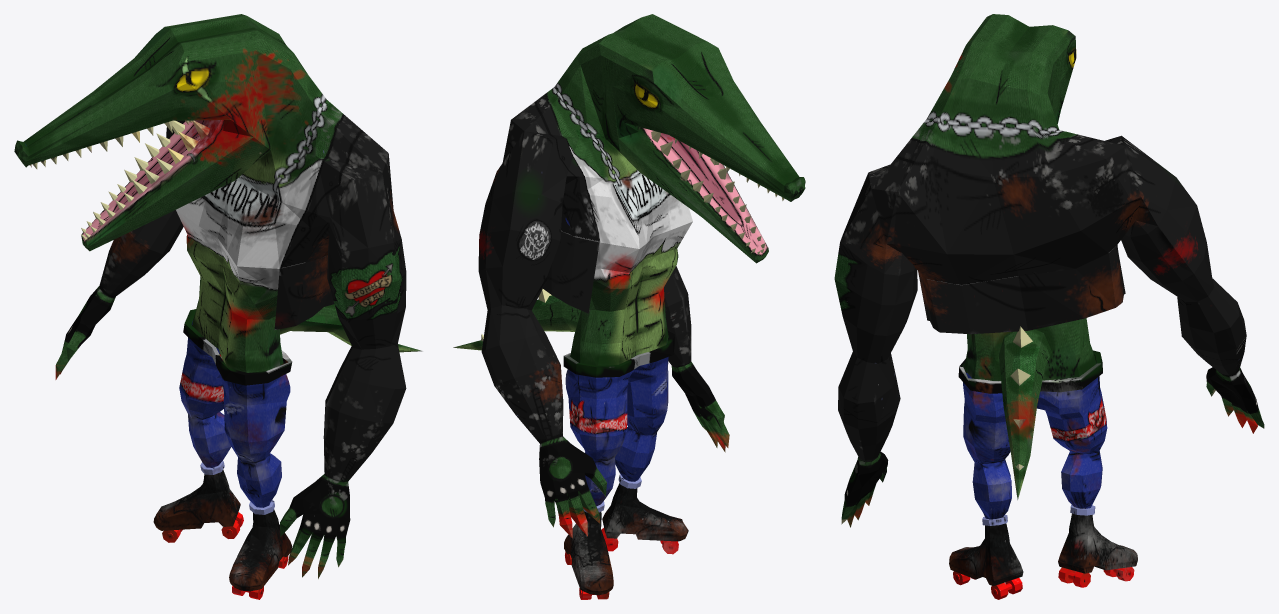
File: cocodrilaBonesSelect_000020.obj
3 views of the same model, side by side, from view 1: azimuth 30°, elevation 25°; view 2: azimuth 150°, elevation 25°; view 3: azimuth 270°, elevation 25° (orthographic). The views are drawn at different scales.
Parts seen in each view (by area): view 1: Crocodile.002_Cylinder.002; view 2: Crocodile.002_Cylinder.002; view 3: Crocodile.002_Cylinder.002.
Boxes of the visible parts, left/top/right/bottom form: Crocodile.002_Cylinder.002: left=14, top=14, right=422, bottom=599; Crocodile.002_Cylinder.002: left=453, top=14, right=805, bottom=599; Crocodile.002_Cylinder.002: left=834, top=14, right=1264, bottom=599.
Bounding box in the file's own units: 4.9 × 6.72 × 4.78.
